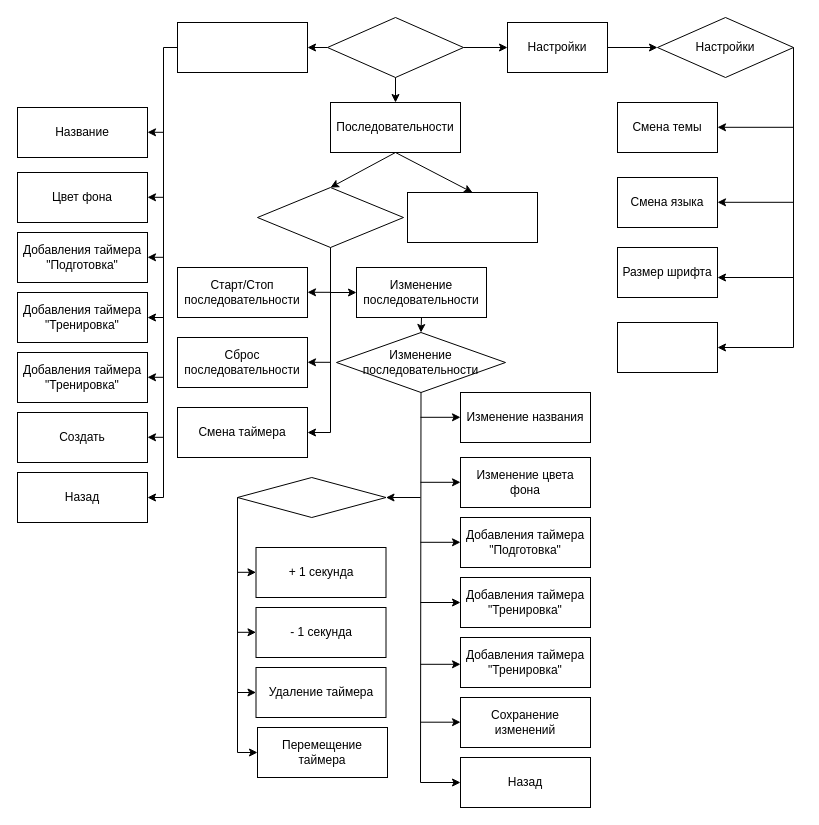
The diagram is 819 pixels wide and 825 high, and some of its shapes have lost their labels. The shapes that lost their labels are listed below. From the top down, each one's centre as x and y in pixels, then its label:
At pixel 242 47: "Добавить последователность".
At pixel 395 47: "Домашний экран".
At pixel 330 217: "Последовательность".
At pixel 472 217: "Удалить последовательность".
At pixel 667 347: "Очистить данные".
At pixel 311 497: "Таймеры".
